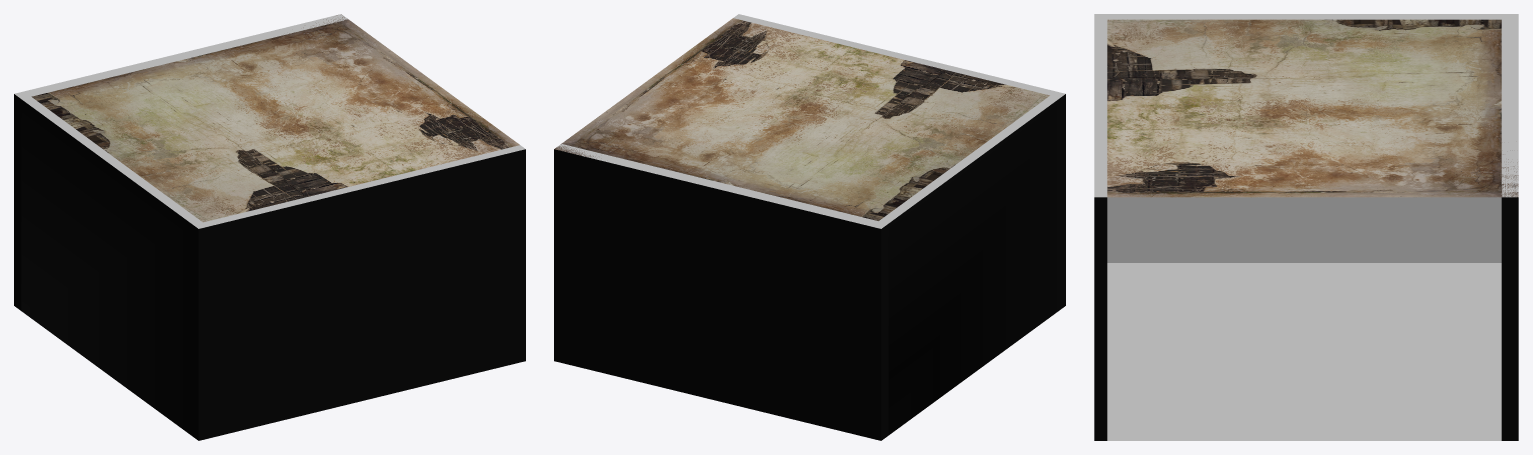
File: porn_studio.FBX
3 views of the same model, side by side, from view 1: azimuth 30°, elevation 25°; view 2: azimuth 150°, elevation 25°; view 3: azimuth 270°, elevation 25° (orthographic). The views are drawn at different scales.
Parts seen in each view (by area): view 1: studio_walls, studio_ceiling; view 2: studio_walls, studio_ceiling; view 3: studio_ceiling, studio_floor, studio_walls.
Boxes of the visible parts, x1,y1,x2,y2 form: studio_walls: [14, 14, 525, 440]; studio_ceiling: [31, 14, 519, 222]; studio_walls: [554, 14, 1065, 440]; studio_ceiling: [554, 18, 1049, 220]; studio_ceiling: [1107, 19, 1518, 197]; studio_floor: [1107, 263, 1501, 440]; studio_walls: [1094, 14, 1518, 440].
Bounding box in the file's own units: 452 × 280 × 441.
